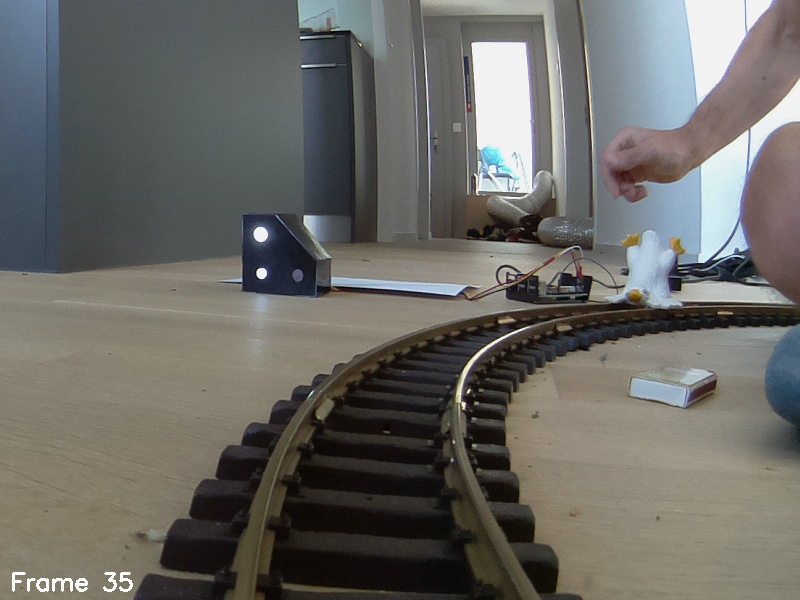Fahrt: (240, 211, 334, 298)
